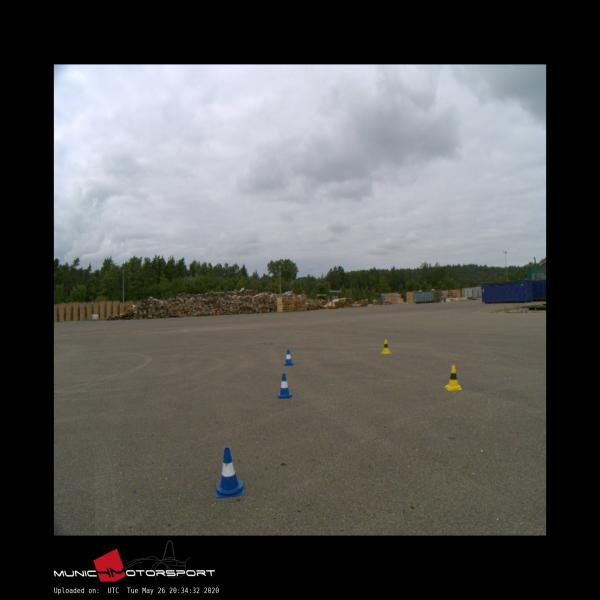blue_cone: (215, 447, 243, 488), (276, 373, 292, 398), (284, 349, 293, 365)
yellow_cone: (444, 364, 462, 390), (380, 339, 391, 354)
